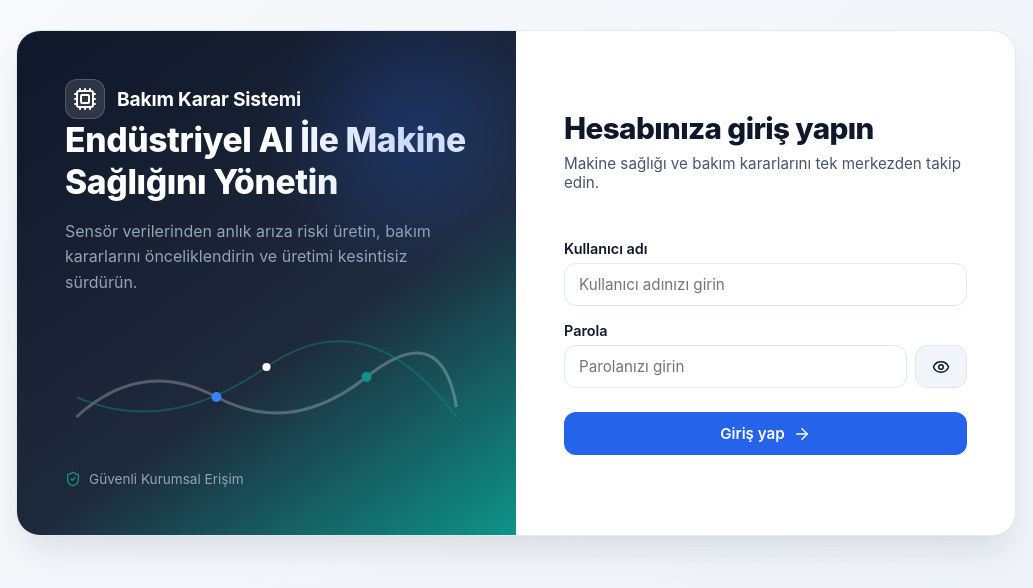
Test: Login › eksik alanlarda doğrulama mesajı gösterir
The image size is (1033, 588).
Click the button "Giriş yap" at (766, 434), box top-left (564, 412), bottom-right (967, 455)
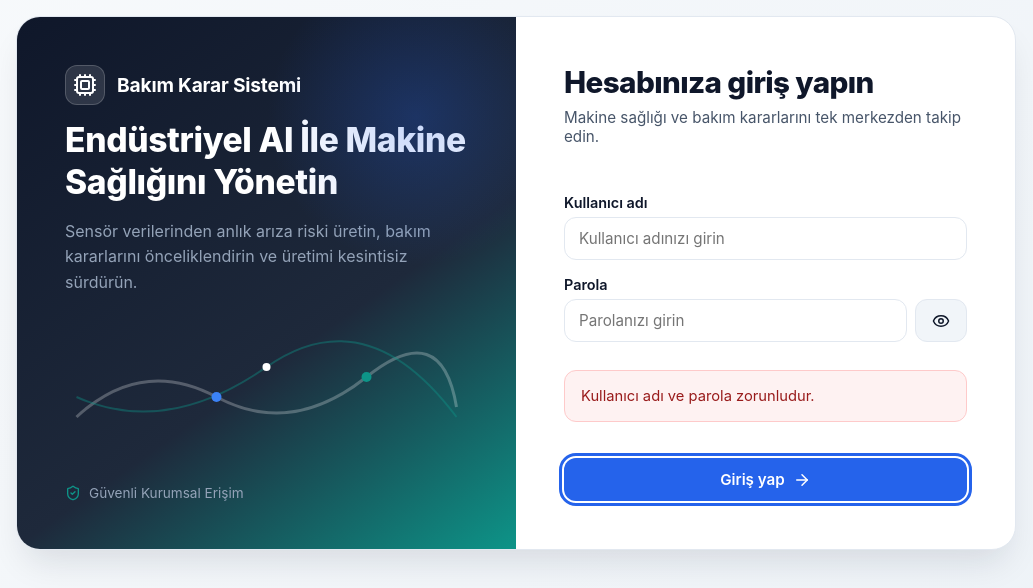
Result: the message shows "zorunludur" at top-left (581, 387), bottom-right (815, 405)
